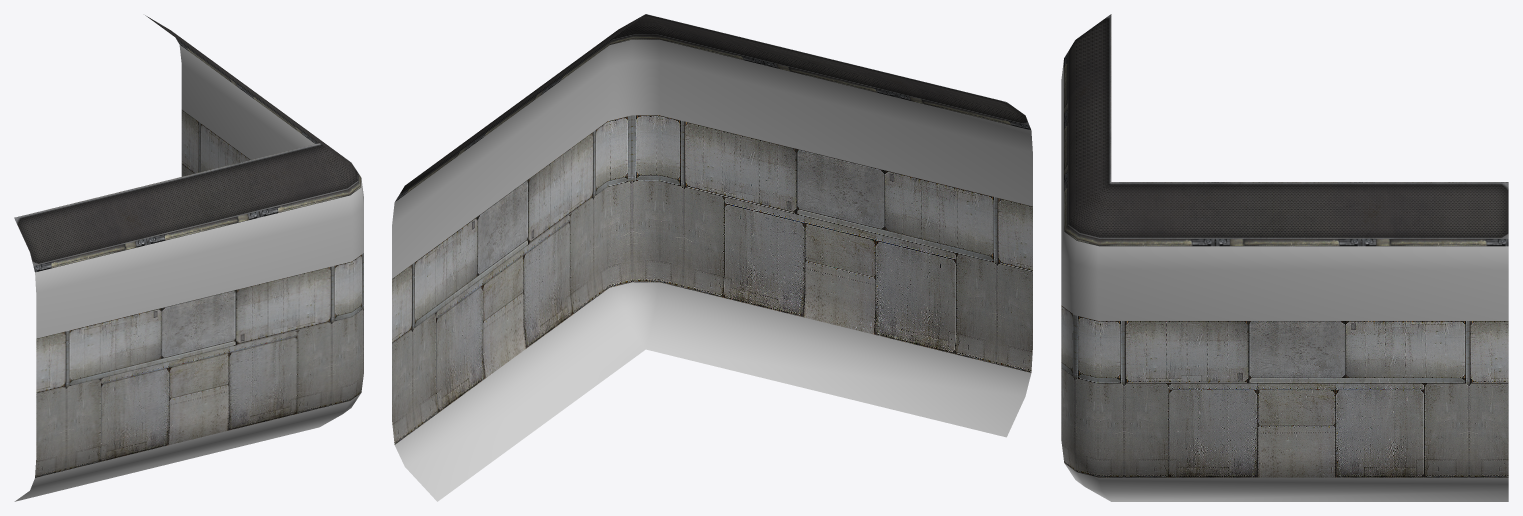
The model's file is Wall_L_Mid4mts_15.fbx.
3 renders of one model, left to right at view 1: azimuth 30°, elevation 25°; view 2: azimuth 150°, elevation 25°; view 3: azimuth 270°, elevation 25°, orthographic. The views are drawn at different scales.
Visible parts, largest first — view 1: Wall_L_Mid4mts_15; view 2: Wall_L_Mid4mts_15; view 3: Wall_L_Mid4mts_15.
Part boxes in pixels (left/top/right/bottom): Wall_L_Mid4mts_15: left=14, top=15, right=363, bottom=501; Wall_L_Mid4mts_15: left=392, top=14, right=1032, bottom=501; Wall_L_Mid4mts_15: left=1061, top=14, right=1508, bottom=501.
Size of the model in its own units: 507 by 400 by 507.
